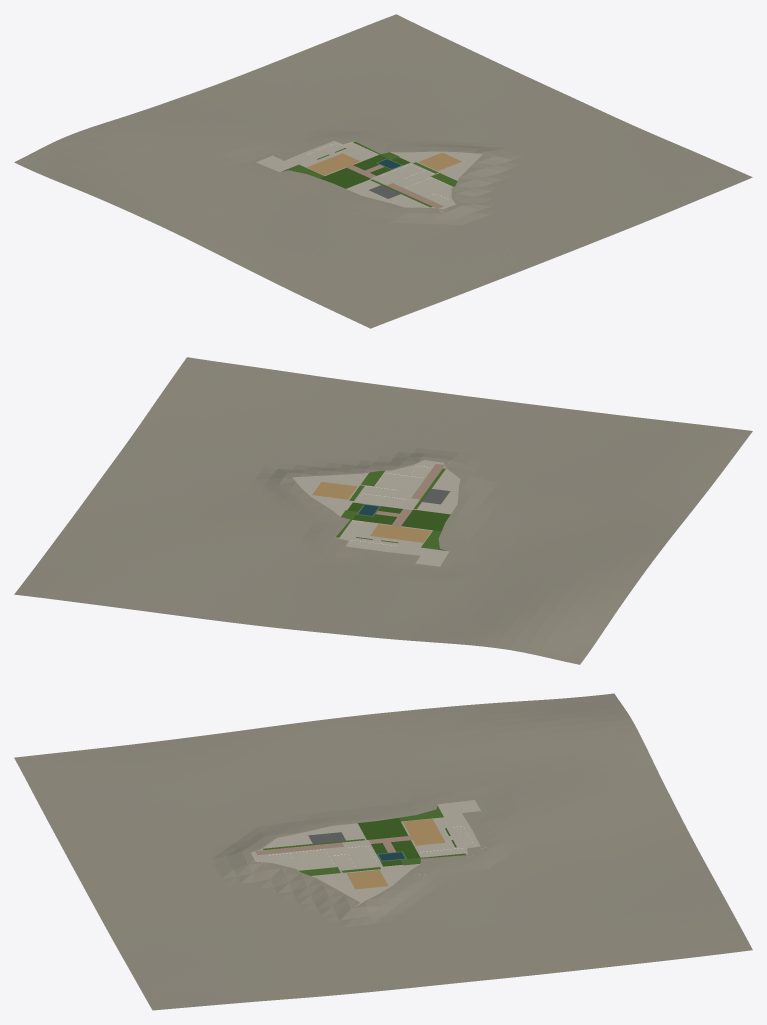
3 renders of one model, top to bottom at view 1: azimuth 30°, elevation 25°; view 2: azimuth 150°, elevation 25°; view 3: azimuth 270°, elevation 25°, orthographic. The views are drawn at different scales.
Parts seen in each view (by area): view 1: ground_context-estimated, surface_school-paved-walk, surface_central-forest-park, surface_small-field; view 2: ground_context-estimated, surface_school-paved-walk, surface_central-forest-park, surface_small-field, surface_underbuilding-yunsong, surface_large-field; view 3: ground_context-estimated, surface_school-paved-walk, surface_central-forest-park, surface_small-field, surface_underbuilding-yunsong, surface_large-field.
Boxes of the visible parts, left/top/right/bottom form: ground_context-estimated: left=14, top=14, right=752, bottom=328; surface_school-paved-walk: left=256, top=141, right=482, bottom=209; surface_central-forest-park: left=319, top=154, right=410, bottom=188; surface_small-field: left=307, top=153, right=359, bottom=175; ground_context-estimated: left=14, top=357, right=752, bottom=664; surface_school-paved-walk: left=292, top=460, right=460, bottom=566; surface_central-forest-park: left=347, top=502, right=450, bottom=531; surface_small-field: left=370, top=524, right=431, bottom=542; surface_underbuilding-yunsong: left=376, top=473, right=423, bottom=490; surface_large-field: left=312, top=481, right=357, bottom=499; ground_context-estimated: left=14, top=693, right=752, bottom=1010; surface_school-paved-walk: left=251, top=800, right=480, bottom=902; surface_central-forest-park: left=358, top=818, right=420, bottom=866; surface_small-field: left=403, top=819, right=445, bottom=845; surface_underbuilding-yunsong: left=294, top=849, right=334, bottom=869; surface_large-field: left=346, top=870, right=388, bottom=889.
Size of the model in its own units: 864 by 18.26 by 864.
Materials: 9 (9 with a texture image).
